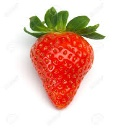strawberry: (28, 12, 96, 112)
